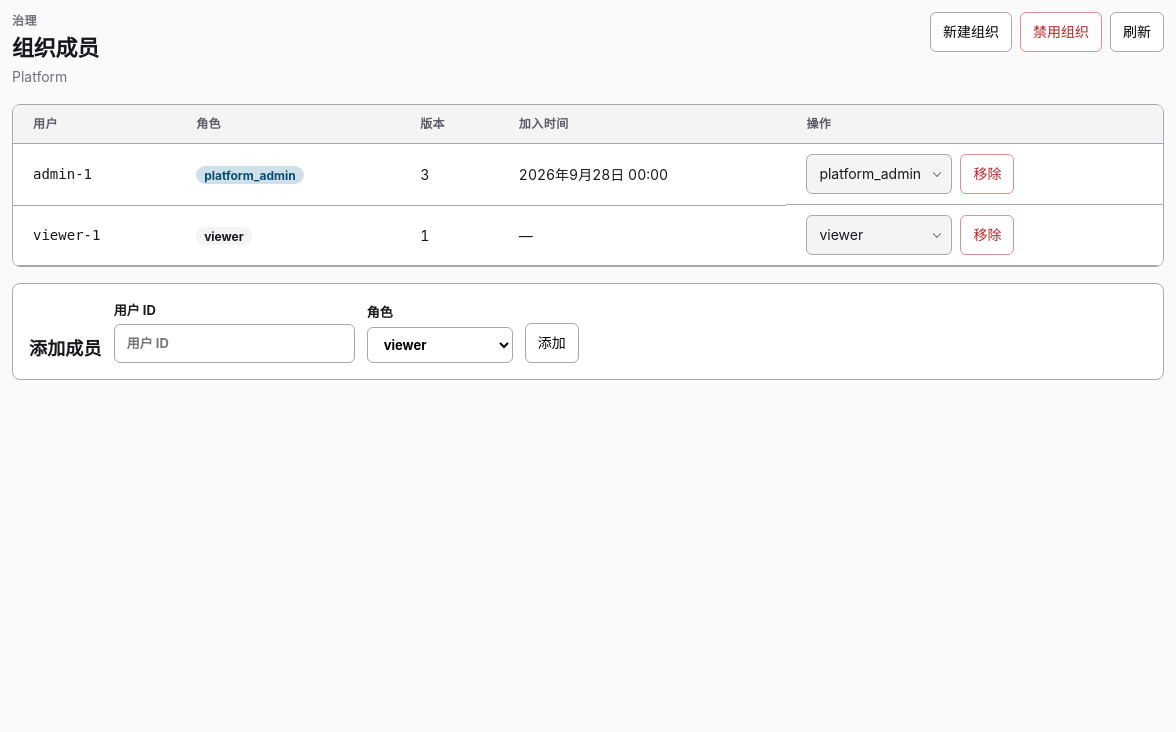
Test case: OrganizationPage add-member form (TASK-363) › reports a refused add through the page-level error state and keeps the typed id
Type "new-user" into the field named "userId". click: {"x": 234, "y": 343}
box: [114, 324, 355, 362]
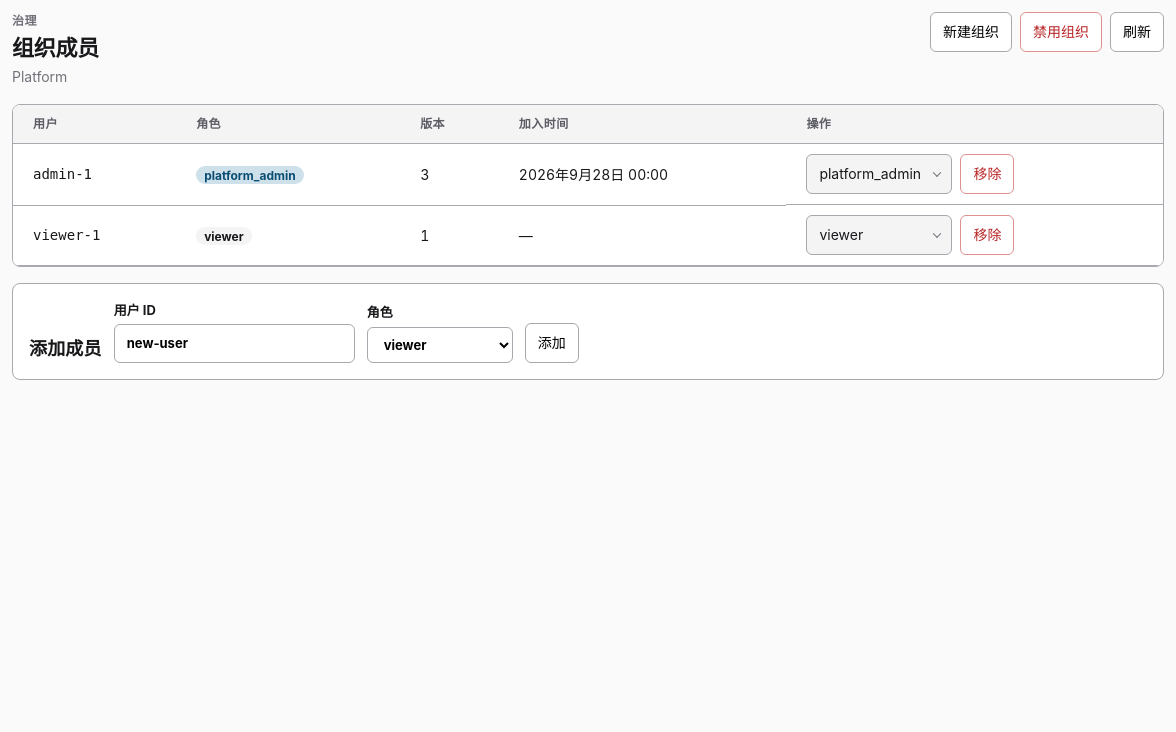
Submit the form, box [12, 283, 1164, 380]
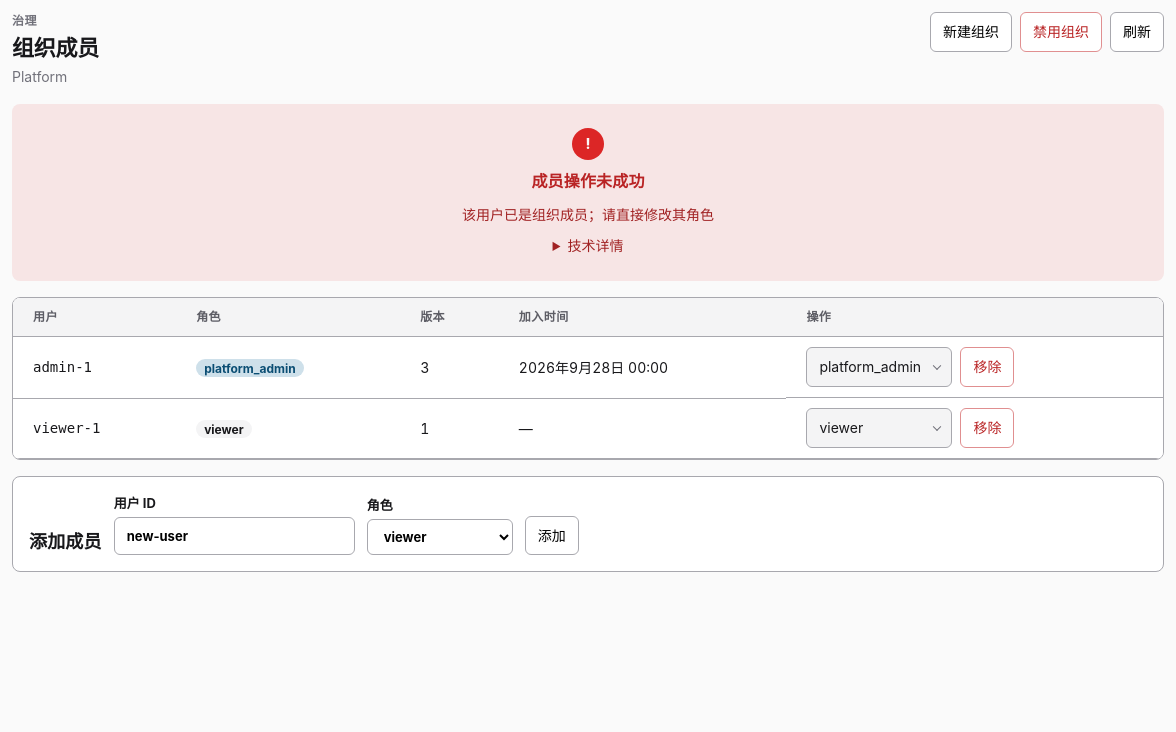
expect the message with class "error-state" shows "该用户已是组织成员；请直接修改其角色": met, box [462, 206, 714, 223]
